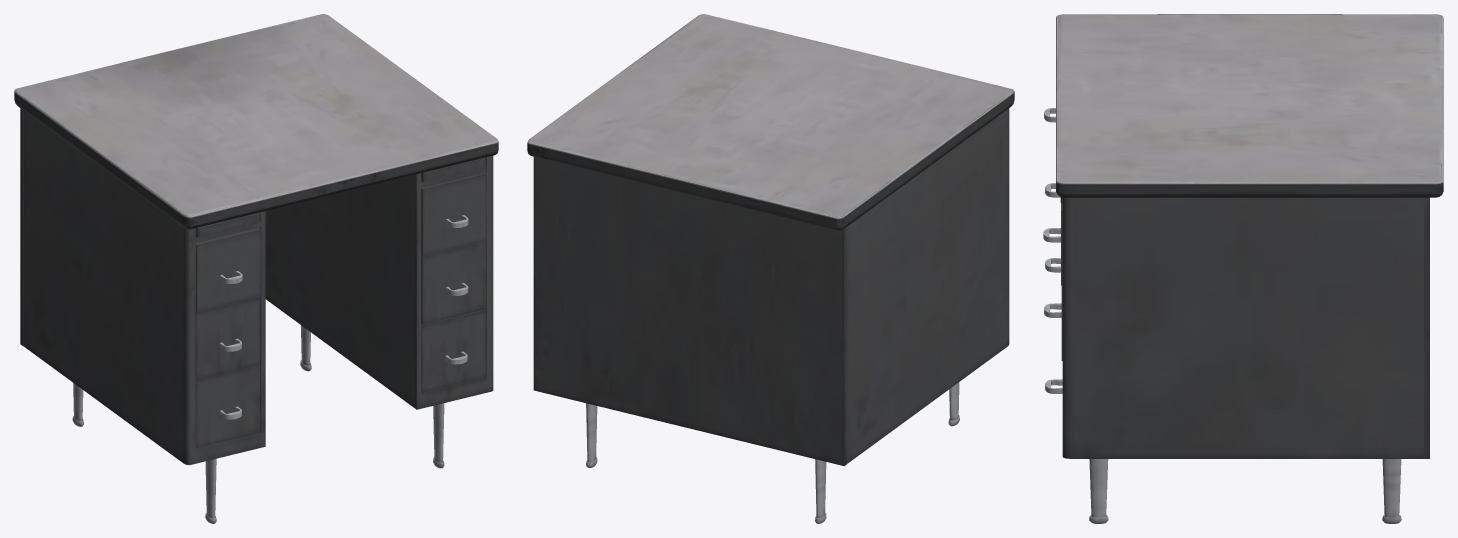
The model's file is ph-metal-office-desk.glb.
The picture shows the model from 3 angles, left to right: view 1: azimuth 30°, elevation 25°; view 2: azimuth 150°, elevation 25°; view 3: azimuth 270°, elevation 25°; orthographic projection. The views are drawn at different scales.
Visible parts, largest first — view 1: metal_office_desk_drawer_06; view 2: metal_office_desk_drawer_06; view 3: metal_office_desk_drawer_06.
Boxes of the visible parts, bbox=[...] form: metal_office_desk_drawer_06: bbox=[14, 14, 498, 523]; metal_office_desk_drawer_06: bbox=[527, 14, 1014, 523]; metal_office_desk_drawer_06: bbox=[1043, 14, 1443, 523].
Size of the model in its own units: 1 by 1 by 1.
1 material, 1 textured.
